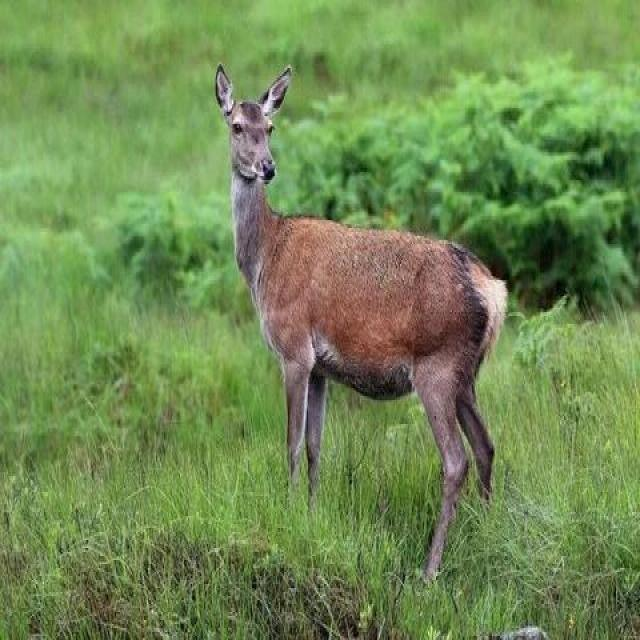deer: (199, 99, 602, 626)
